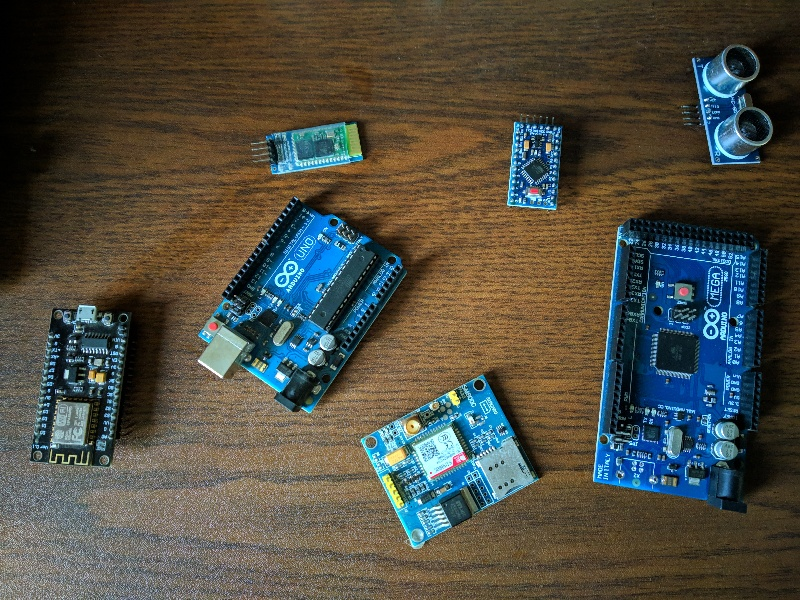Arduino Mega 2560: (587, 212, 773, 523)
Arduino Pro Mini: (504, 118, 564, 214)
Arduino UNO: (193, 194, 410, 423)
HC-05: (263, 117, 367, 177)
NodeMCU: (26, 302, 133, 472)
SIM800: (357, 371, 542, 552)
Sonar Sensor: (688, 37, 779, 170)
